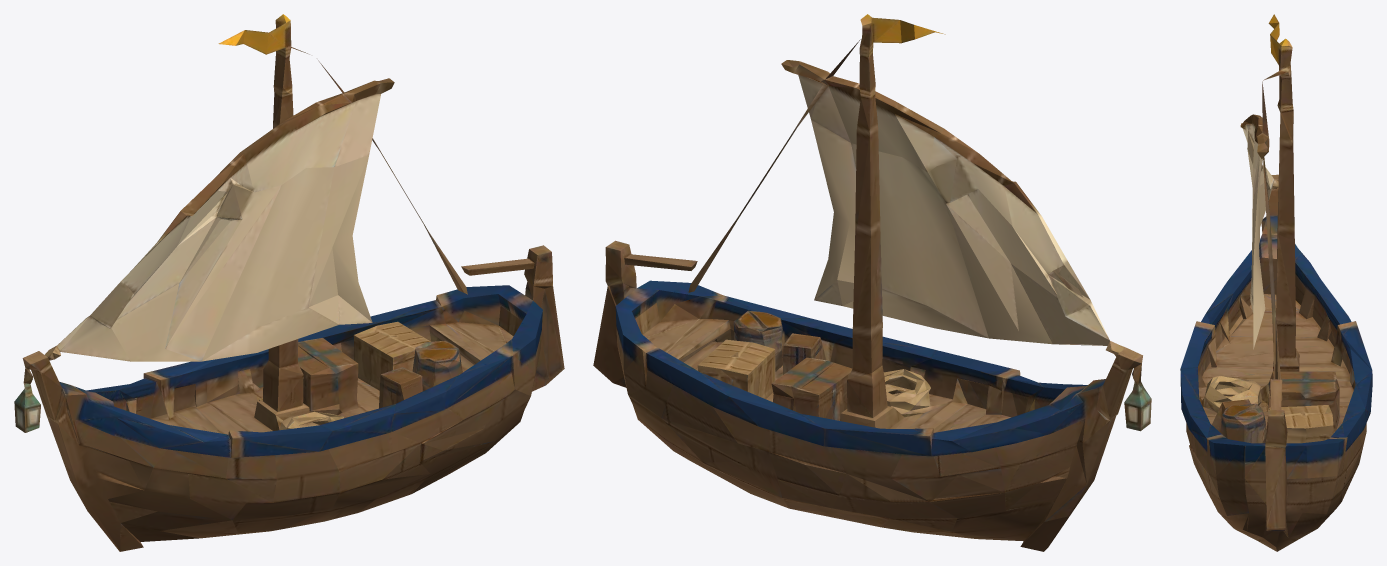
File: boat.glb
3 views of the same model, side by side, from view 1: azimuth 30°, elevation 25°; view 2: azimuth 150°, elevation 25°; view 3: azimuth 270°, elevation 25° (orthographic). The views are drawn at different scales.
Parts seen in each view (by area): view 1: boat; view 2: boat; view 3: boat.
Boxes of the visible parts, x1,y1,x2,y2 form: boat: (14,14,564,551); boat: (593,14,1151,551); boat: (1180,14,1372,551).
Bounding box in the file's own units: 1.89 × 1.68 × 0.6473.
1 material, 1 textured.
